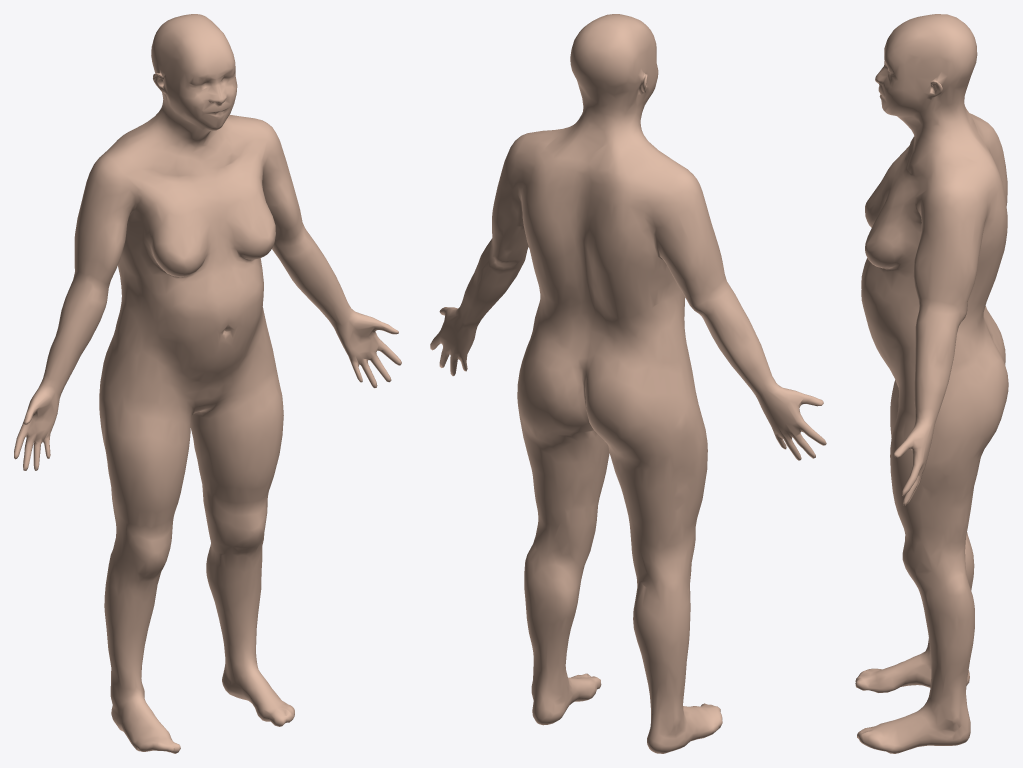
The model's file is adult_female.surface.LOD2.glb.
3 views of the same model, side by side, from view 1: azimuth 30°, elevation 25°; view 2: azimuth 150°, elevation 25°; view 3: azimuth 270°, elevation 25° (orthographic). The views are drawn at different scales.
Visible parts, largest first — view 1: ADULT.FEMALE.SURFACE.SKIN; view 2: ADULT.FEMALE.SURFACE.SKIN; view 3: ADULT.FEMALE.SURFACE.SKIN.
Boxes of the visible parts, bbox=[...] form: ADULT.FEMALE.SURFACE.SKIN: bbox=[14, 14, 401, 753]; ADULT.FEMALE.SURFACE.SKIN: bbox=[430, 14, 826, 753]; ADULT.FEMALE.SURFACE.SKIN: bbox=[855, 14, 1008, 753].
Bounding box in the file's own units: 0.9679 × 1.67 × 0.3297.
